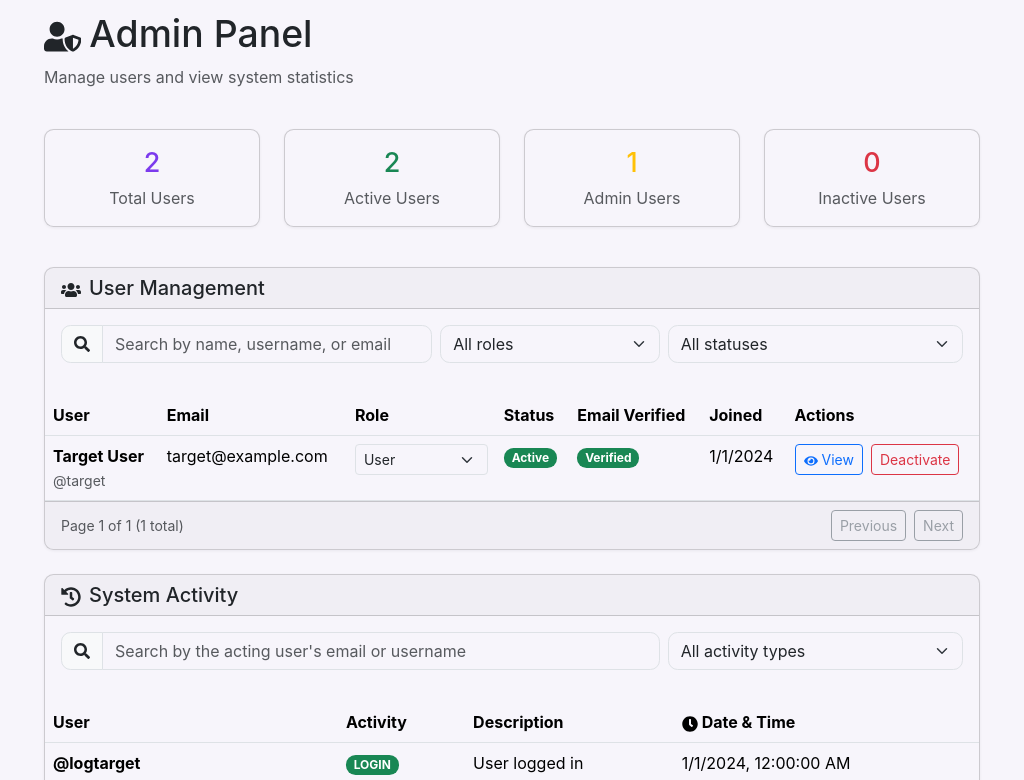
AdminPanel › deactivates a user and updates the badge
The image size is (1024, 780).
expect the text "target@example.com" is shown: met, box [159,436,347,501]
Click the button "Deactivate": coordinates (915, 460) [871,444,959,475]
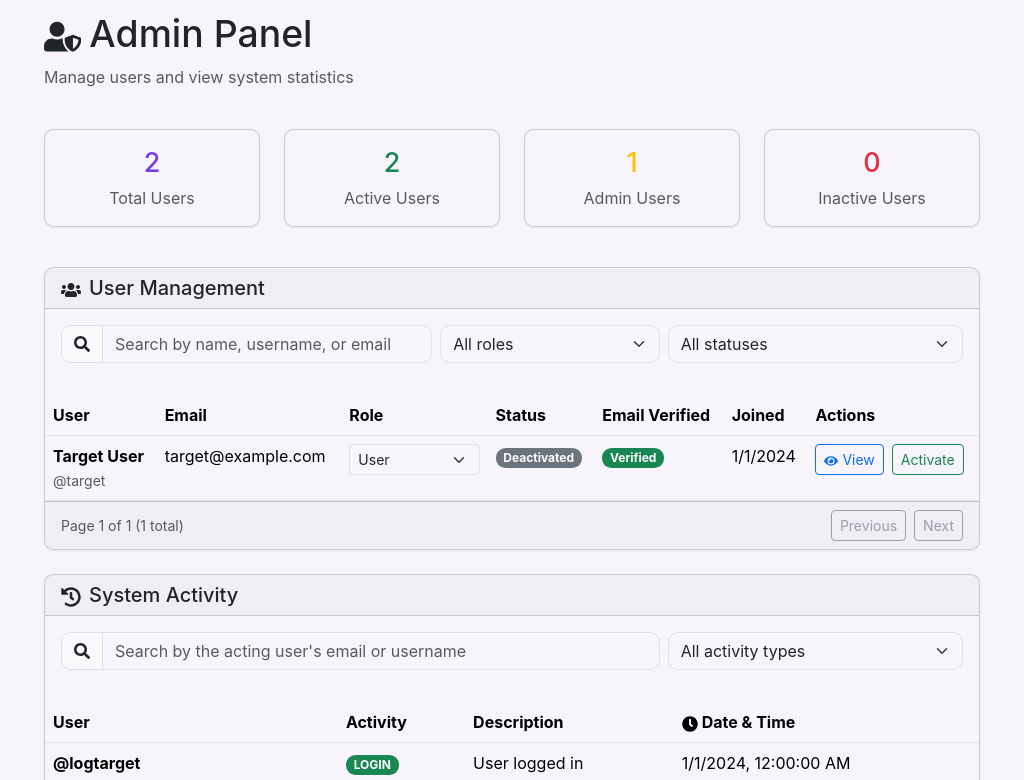
expect the text "Deactivated" is shown: met, box [496,448,582,468]
